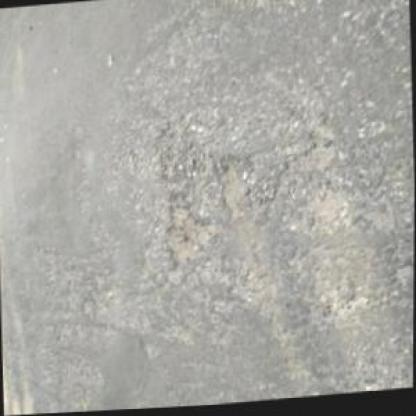pothole: (164, 205, 218, 268), (215, 158, 247, 218)
